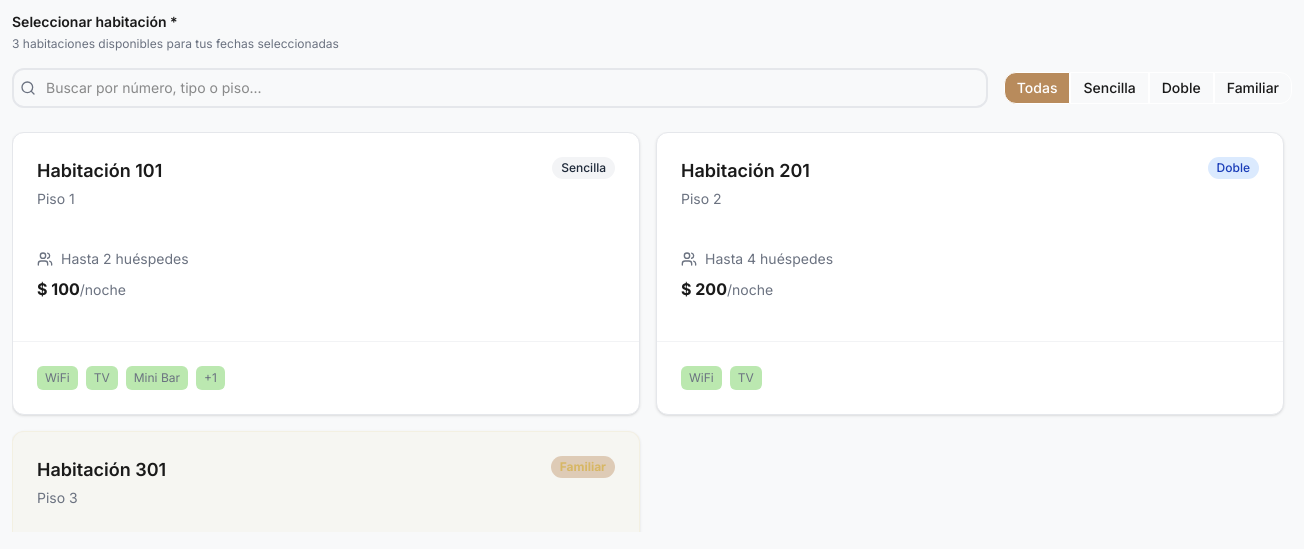
Test: RoomSelector › shows empty state when no rooms match
This screenshot has width=1304, height=549.
Type "999" into the field with placeholder "Buscar por número, tipo o piso..." at {"x": 500, "y": 88}, box [12,68,988,108]
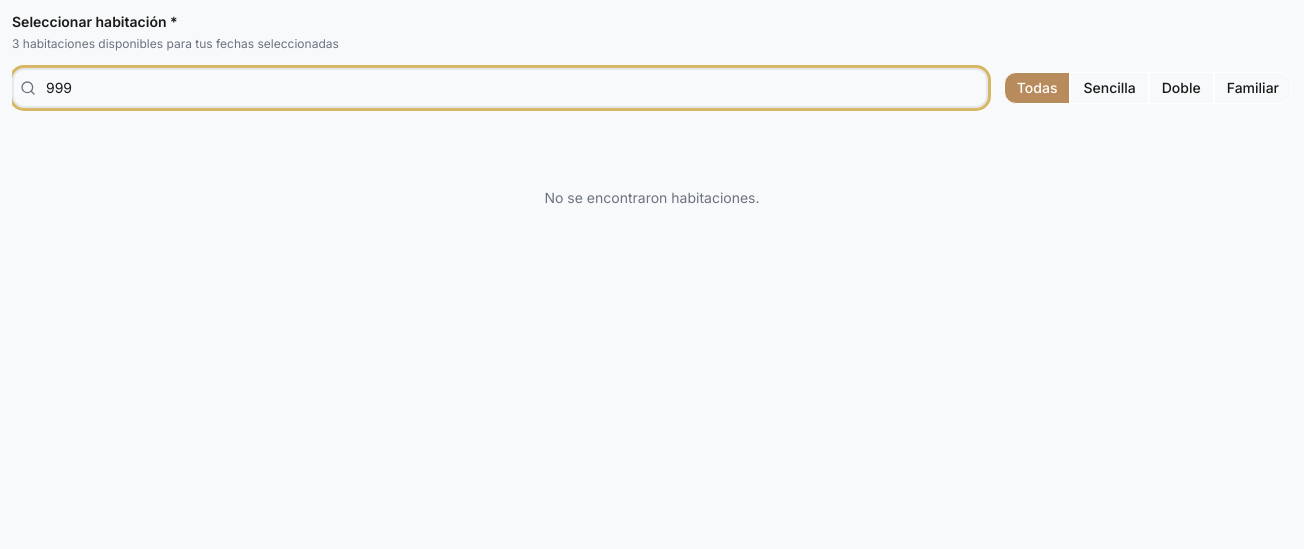
Expected: the text "No se encontraron habitaciones." is shown, [544,189,760,206]
